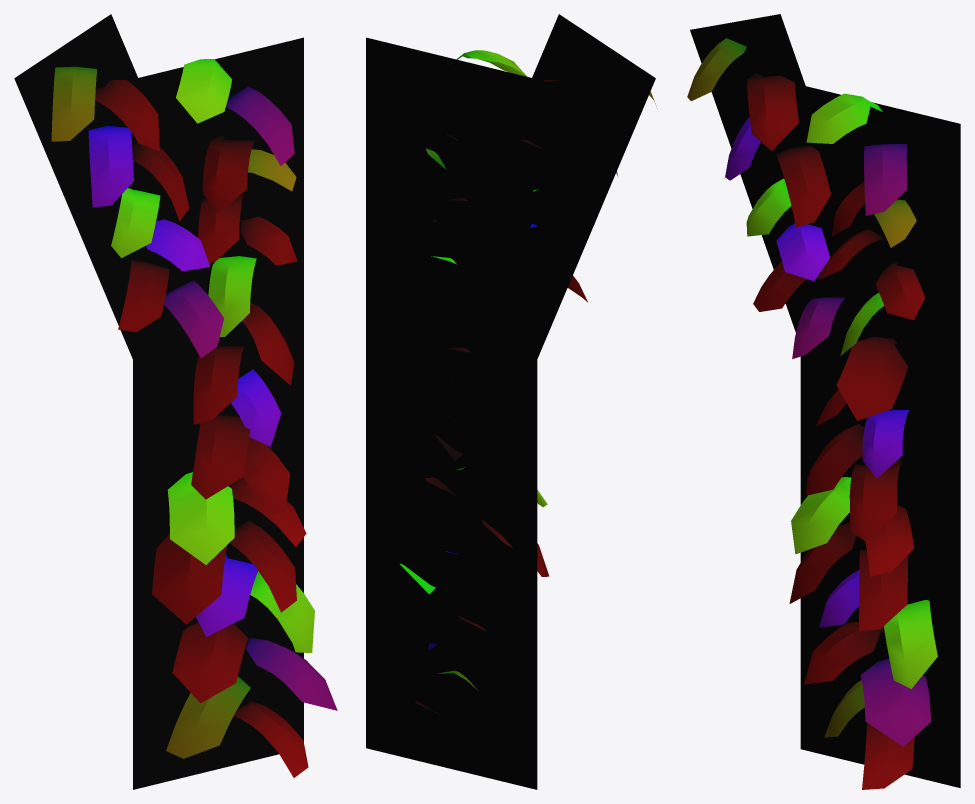
The model's file is Vine_monstera_var4.fbx.
3 views of the same model, side by side, from view 1: azimuth 30°, elevation 25°; view 2: azimuth 150°, elevation 25°; view 3: azimuth 330°, elevation 25° (orthographic). The views are drawn at different scales.
Parts seen in each view (by area): view 1: MO_var4_LOD0; view 2: MO_var4_LOD0; view 3: MO_var4_LOD0.
Part boxes in pixels (x1,y1,x2,y2): MO_var4_LOD0: (14,14,337,789); MO_var4_LOD0: (366,14,657,789); MO_var4_LOD0: (687,14,960,789).
Size of what is drawn, in the model's own units: 2.54 by 6.54 by 0.8435.
